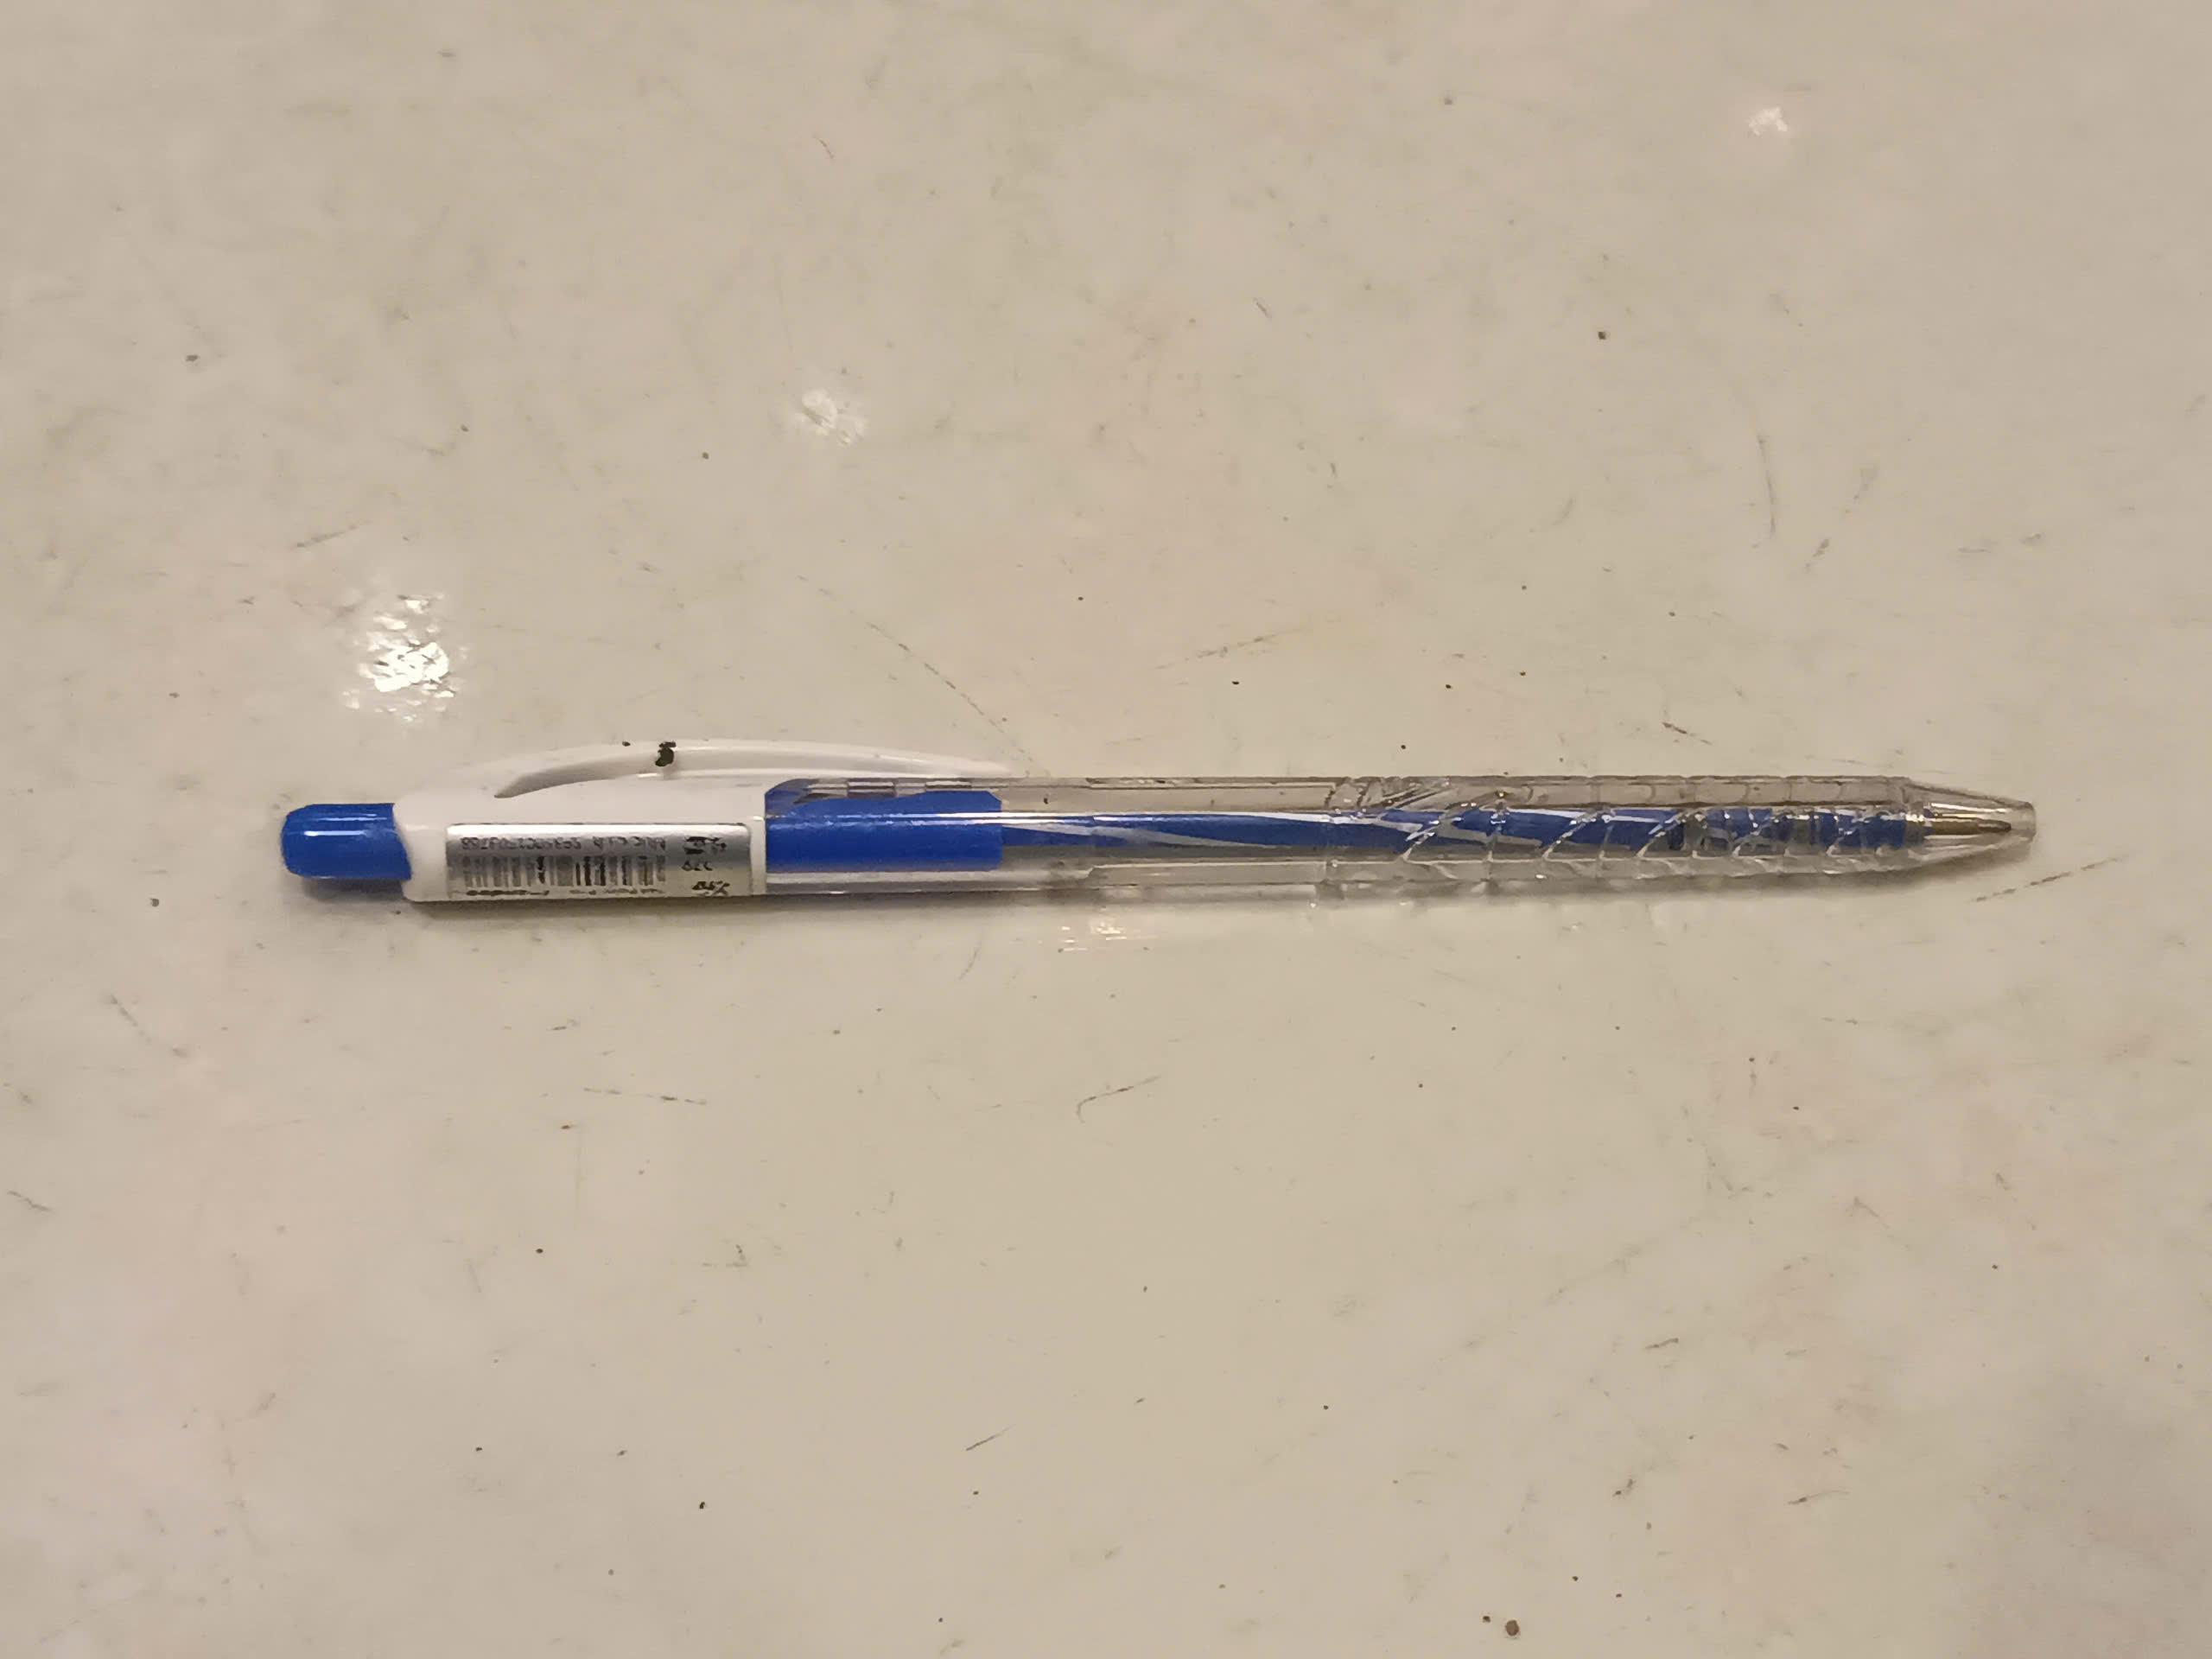Con lai: (279, 732, 2044, 920)
